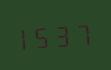five: (36, 21, 53, 50)
one: (18, 22, 35, 51)
seven: (72, 18, 89, 47)
three: (54, 20, 71, 48)
